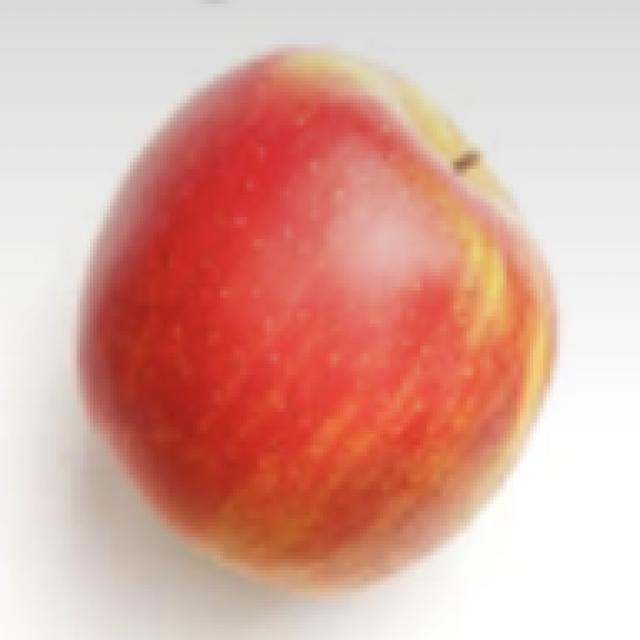Fresh Apple: (68, 58, 562, 550)
